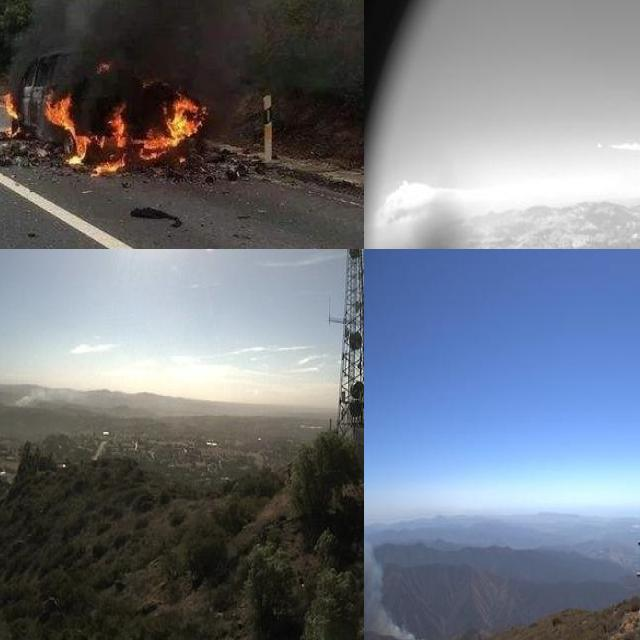fire: (4, 54, 202, 175)
smoke: (25, 0, 287, 71), (364, 519, 415, 640), (15, 369, 81, 412)
